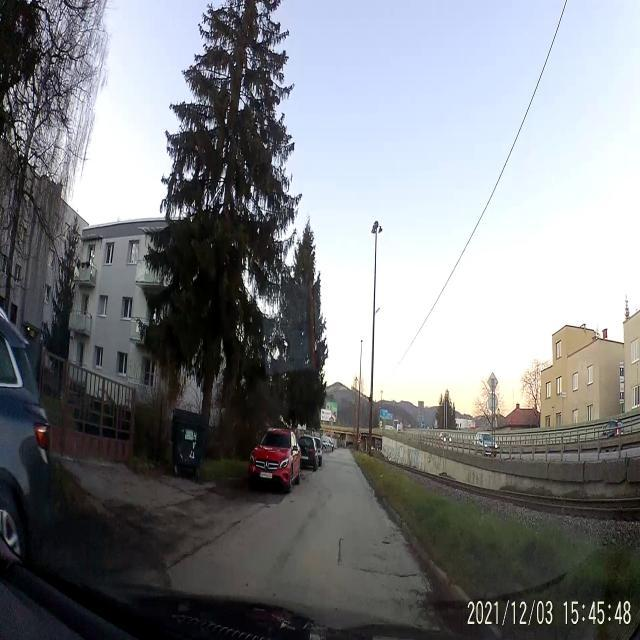Pothole: (380, 536, 392, 550)
